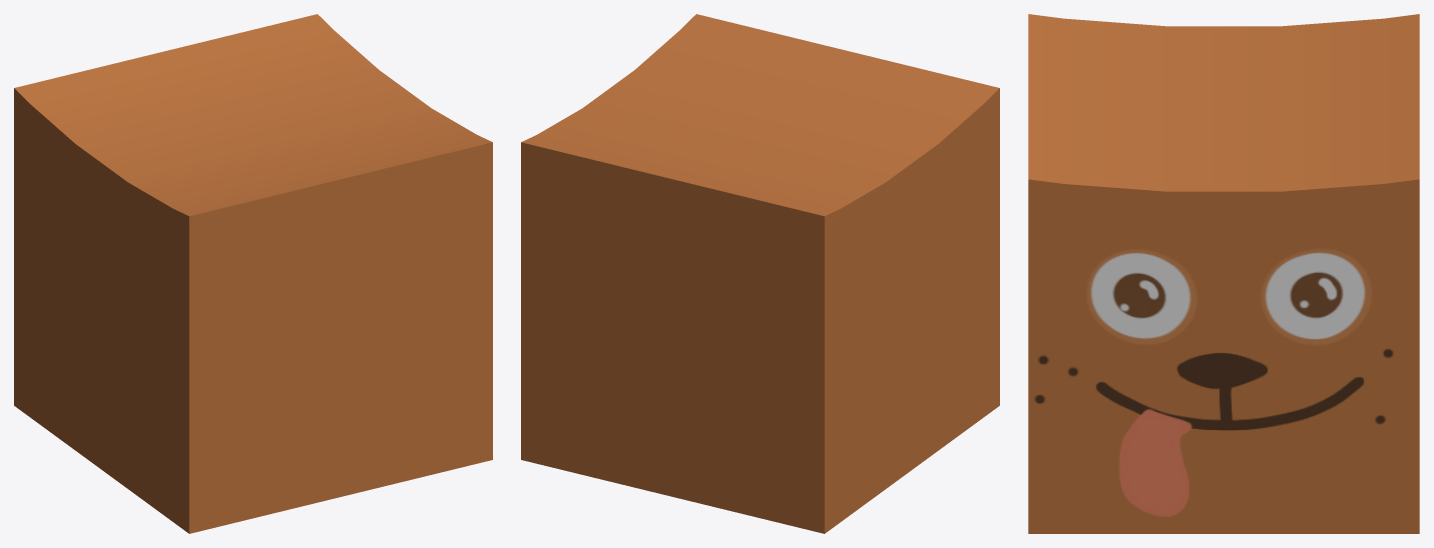
File: dog.fbx
3 views of the same model, side by side, from view 1: azimuth 30°, elevation 25°; view 2: azimuth 150°, elevation 25°; view 3: azimuth 270°, elevation 25° (orthographic). The views are drawn at different scales.
Visible parts, largest first — view 1: Cube; view 2: Cube; view 3: Cube.
Part boxes in pixels (x1,y1,x2,y2): Cube: (14,14,492,533); Cube: (521,14,999,533); Cube: (1028,14,1419,533).
Bounding box in the file's own units: 200 × 200 × 200.
Materials: 1 (1 with a texture image).
